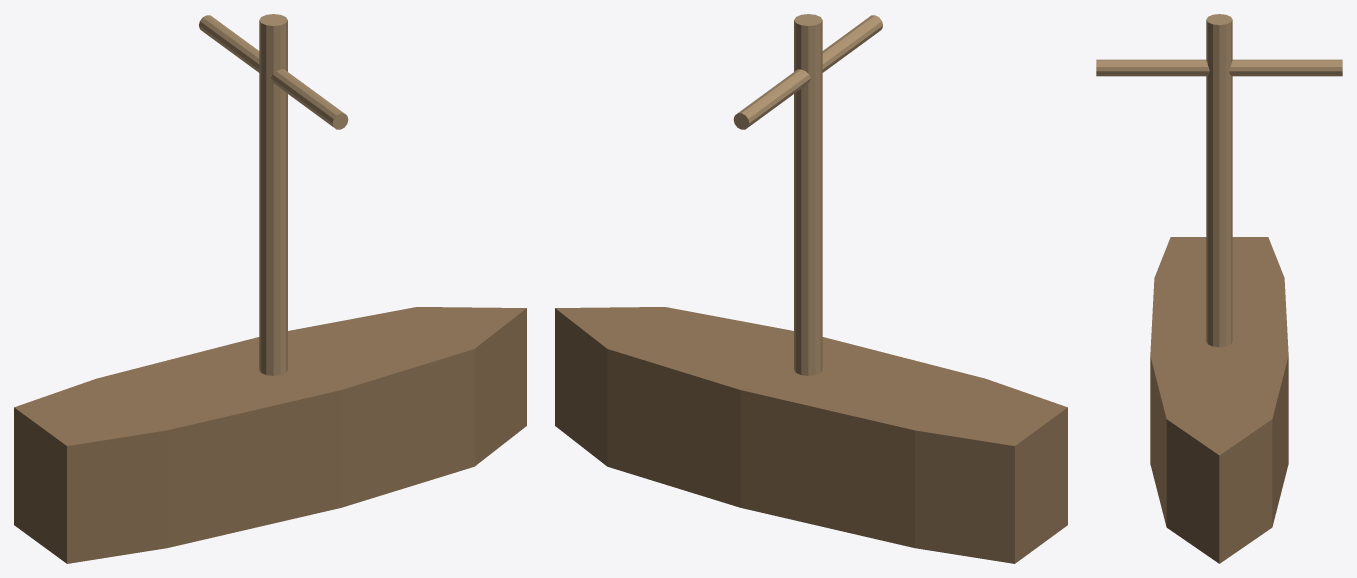
Rendered from hull-current.glb.
The picture shows the model from 3 angles, left to right: view 1: azimuth 30°, elevation 25°; view 2: azimuth 150°, elevation 25°; view 3: azimuth 270°, elevation 25°; orthographic projection. The views are drawn at different scales.
Visible parts, largest first — view 1: hull, Cylinder, Cylinder.001; view 2: hull, Cylinder, Cylinder.001; view 3: hull, Cylinder, Cylinder.001.
Part boxes in pixels (x1,y1,x2,y2): hull: (14,307,526,563); Cylinder: (259,14,287,375); Cylinder.001: (199,15,348,129); hull: (555,307,1067,563); Cylinder: (794,14,822,375); Cylinder.001: (733,15,882,129); hull: (1150,237,1288,563); Cylinder: (1206,14,1232,347); Cylinder.001: (1096,59,1342,76).
Bounding box in the file's own units: 0.864 × 0.794 × 0.4119.
